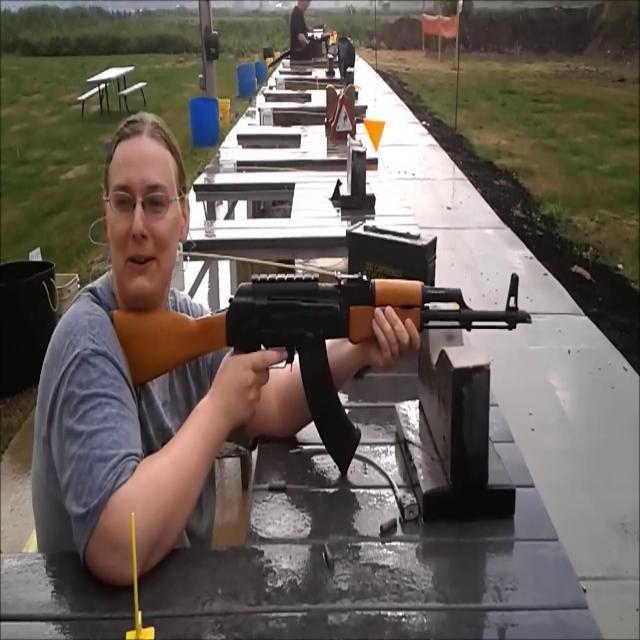Rifle: (95, 251, 555, 484)
